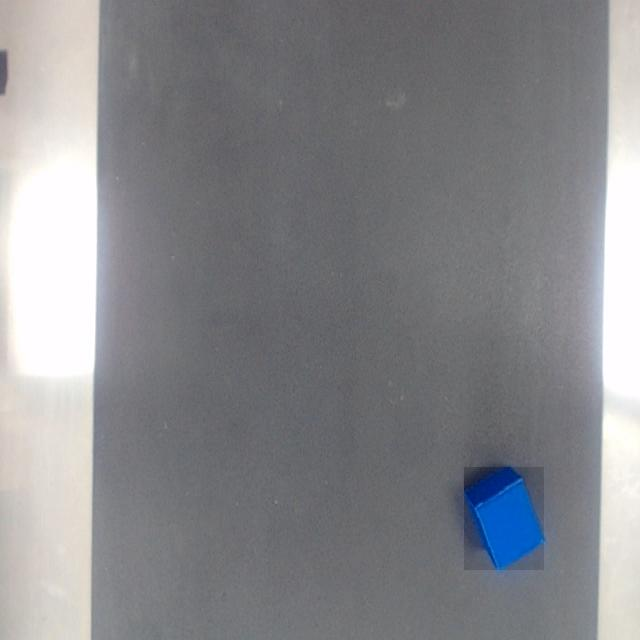Azul: (465, 467, 544, 570)
